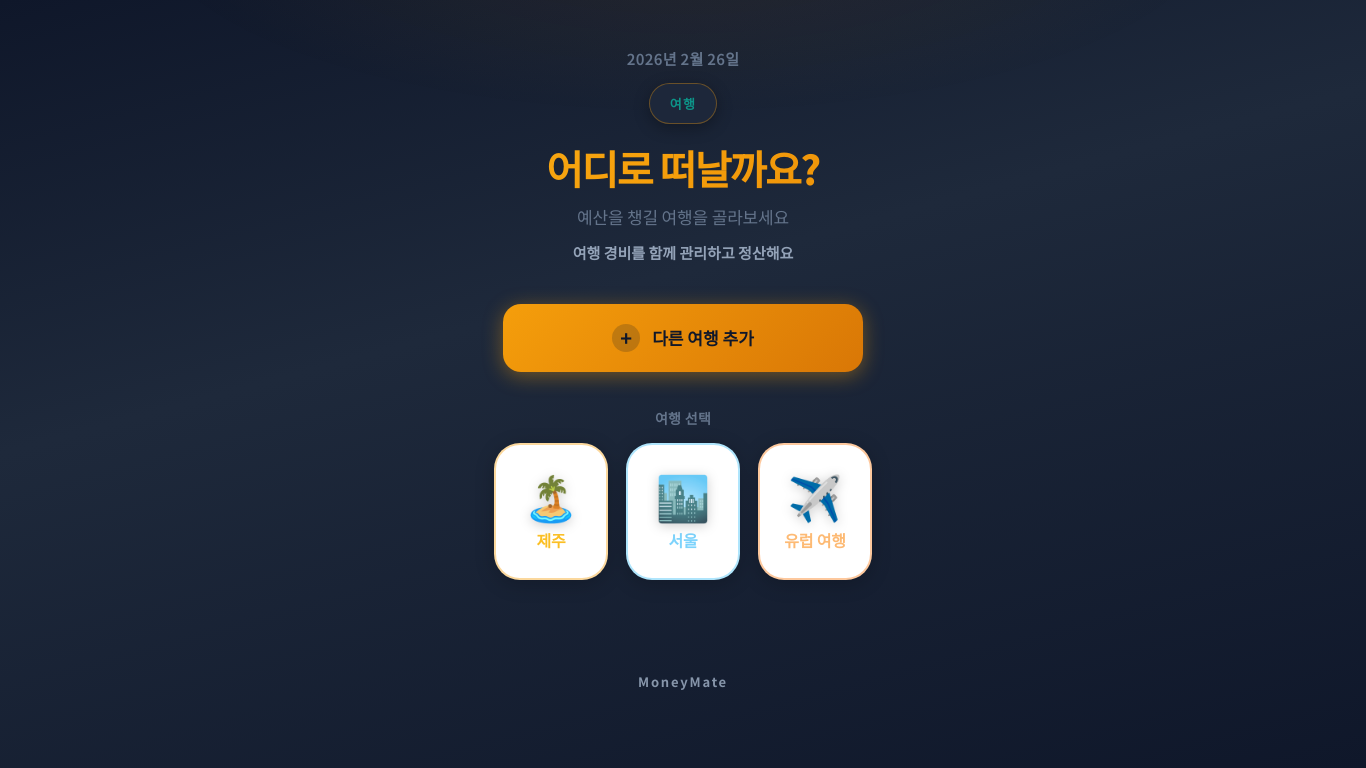
HomePage › 다른 여행 추가 버튼 클릭 시 모달이 열린다
The width and height of the screenshot is (1366, 768).
Click the button "+ 다른 여행 추가" at (683, 338), box x1=503 y1=304 x2=863 y2=372
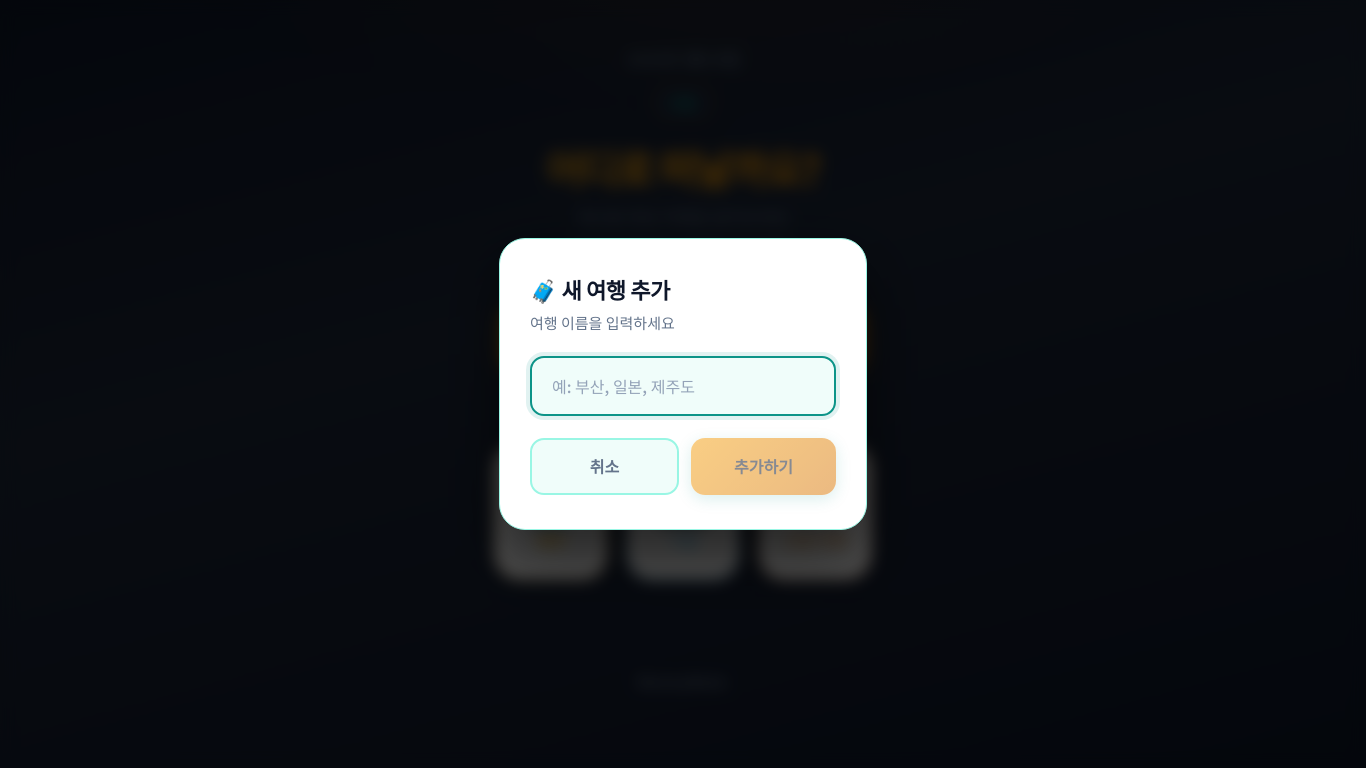
Expected: the heading "🧳 새 여행 추가" is shown, x1=530 y1=273 x2=670 y2=305
Expected: the field with placeholder "예: 부산, 일본, 제주도" is shown, x1=530 y1=356 x2=836 y2=416
